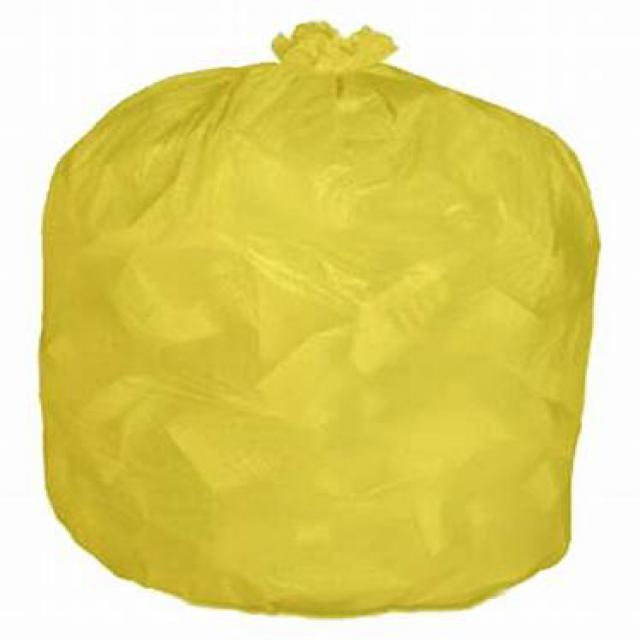waste: (31, 36, 584, 604)
